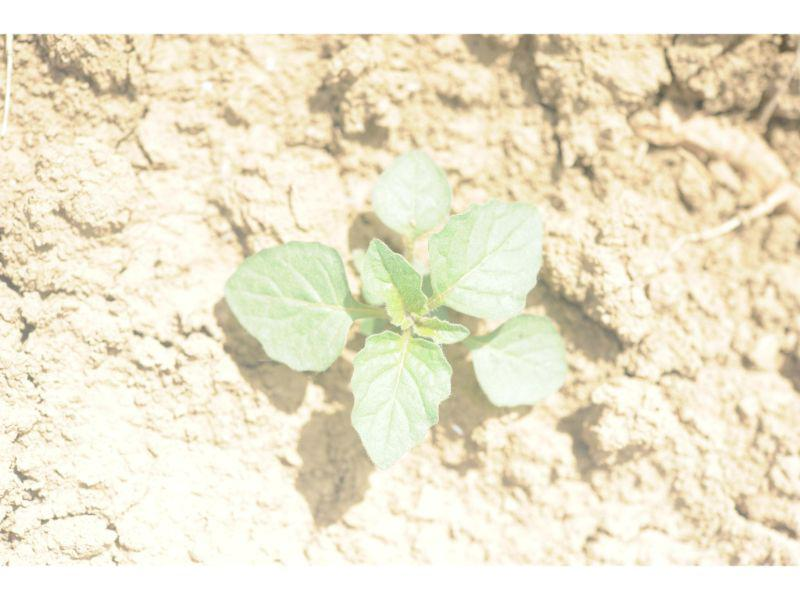nightshade: (226, 149, 566, 467)
